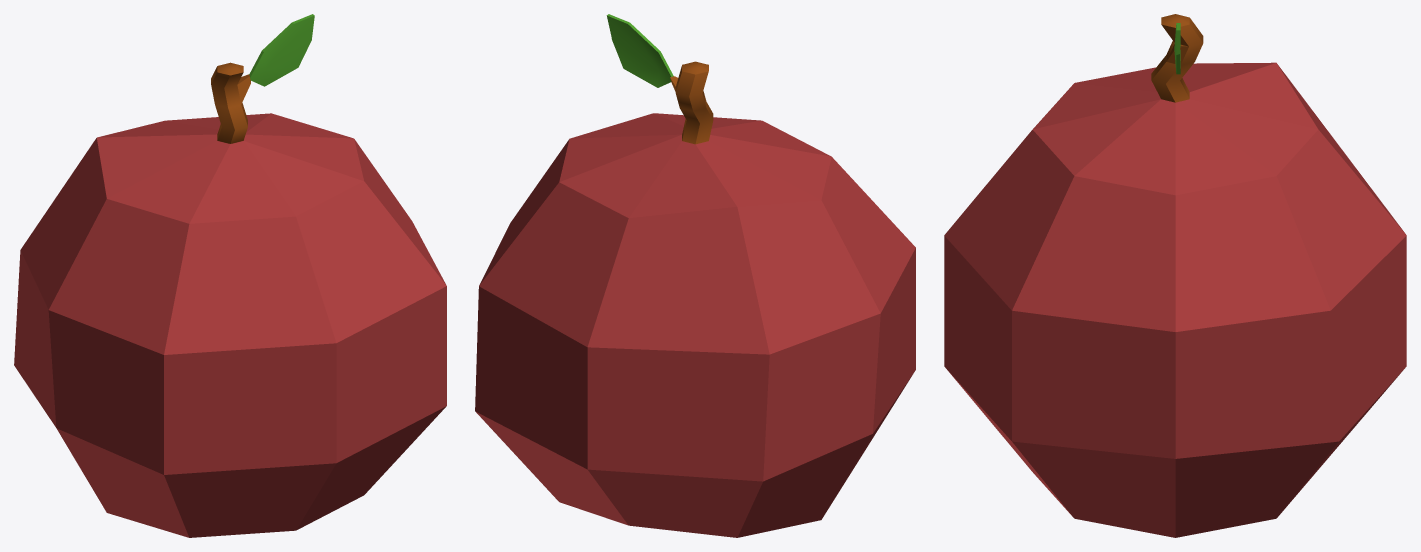
The model's file is apple.fbx.
3 views of the same model, side by side, from view 1: azimuth 30°, elevation 25°; view 2: azimuth 150°, elevation 25°; view 3: azimuth 270°, elevation 25° (orthographic). The views are drawn at different scales.
Parts seen in each view (by area): view 1: Apple; view 2: Apple; view 3: Apple.
Boxes of the visible parts, <box> form: Apple: <box>14,14,446,537</box>; Apple: <box>475,14,915,537</box>; Apple: <box>944,14,1406,537</box>.
Size of the model in its own units: 2.16 by 2.66 by 2.18.
